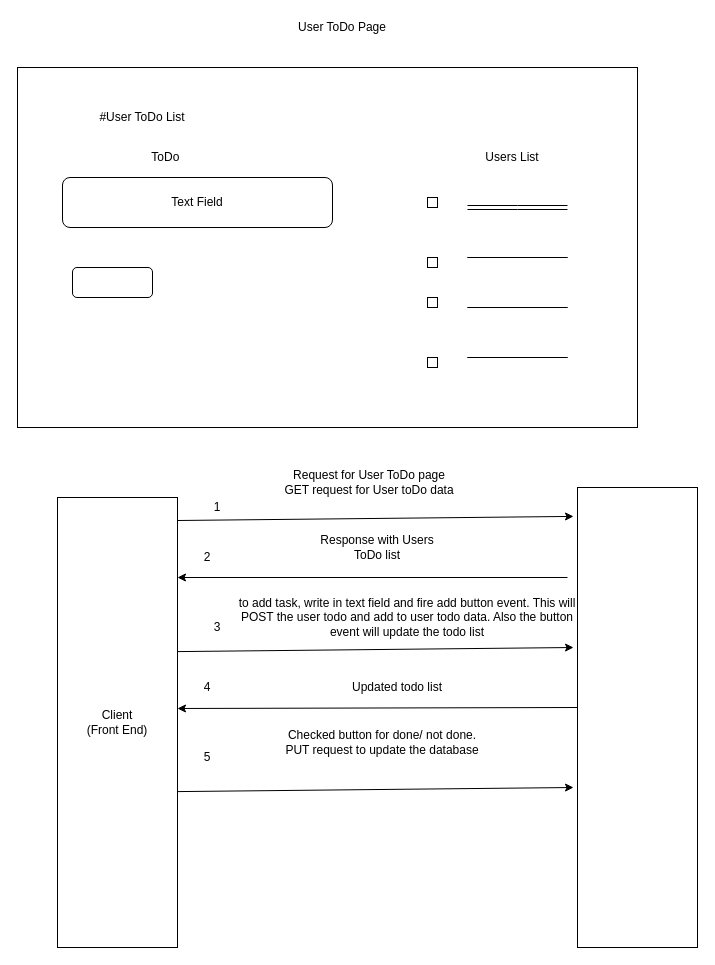
Some shapes in this 715 by 965 pixel diagram are drawn without their labels. Each missing label, with the centre of its shape:
"Add Button" goes at pixel 112 282.
"Server (Back End)" goes at pixel 637 717.
